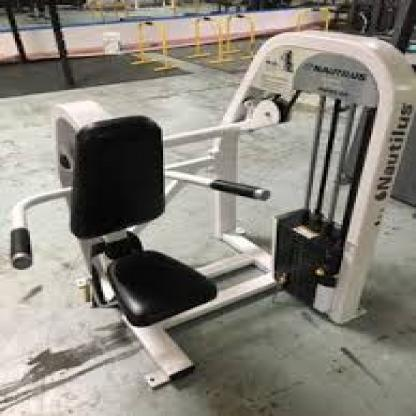seated dip machine: (3, 0, 416, 416)
